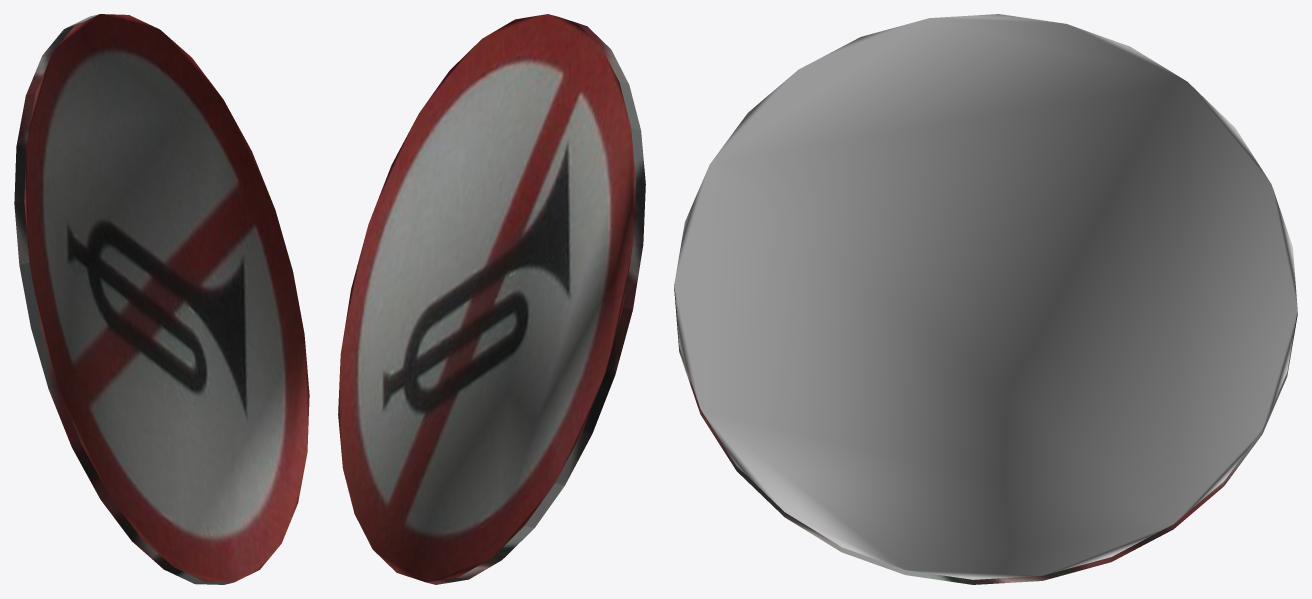
3 views of the same model, side by side, from view 1: azimuth 30°, elevation 25°; view 2: azimuth 150°, elevation 25°; view 3: azimuth 270°, elevation 25° (orthographic). The views are drawn at different scales.
Visible parts, largest first — view 1: model03; view 2: model03; view 3: model03.
Part boxes in pixels (left/top/right/bottom): model03: left=14, top=14, right=309, bottom=584; model03: left=338, top=14, right=645, bottom=584; model03: left=674, top=14, right=1297, bottom=584.
Bounding box in the file's own units: 0.0396 × 1.19 × 1.19.
2 materials, 2 textured.
